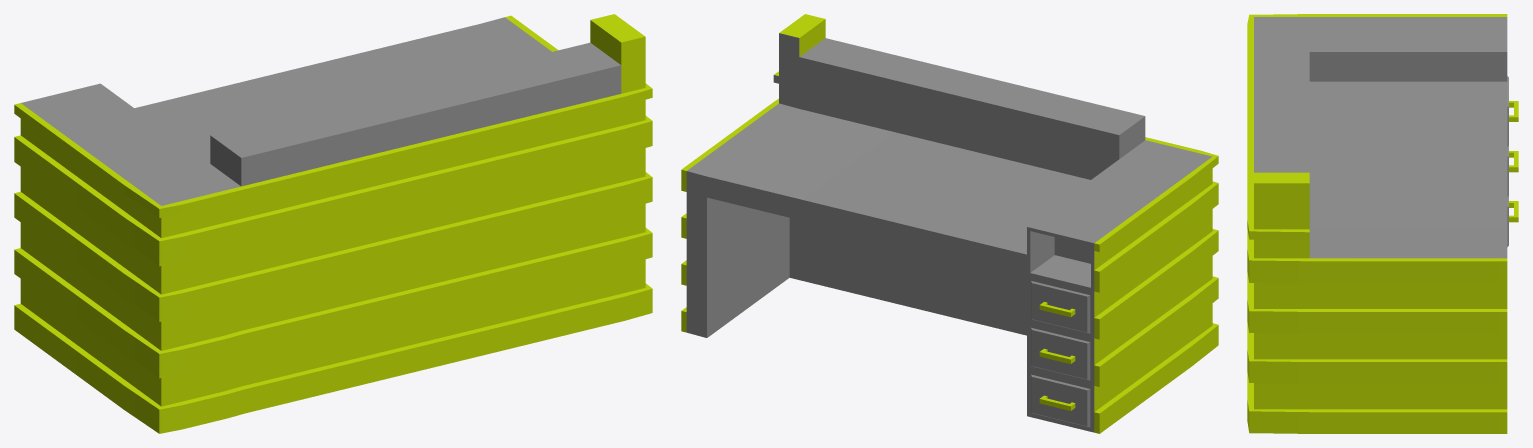
Rendered from Receptionist Desk.FBX.
3 views of the same model, side by side, from view 1: azimuth 30°, elevation 25°; view 2: azimuth 150°, elevation 25°; view 3: azimuth 270°, elevation 25° (orthographic). The views are drawn at different scales.
Visible parts, largest first — view 1: Receptionist Desk; view 2: Receptionist Desk; view 3: Receptionist Desk.
Boxes of the visible parts, left/top/right/bottom form: Receptionist Desk: left=14, top=14, right=652, bottom=433; Receptionist Desk: left=681, top=14, right=1218, bottom=433; Receptionist Desk: left=1247, top=14, right=1518, bottom=433.
Size of the model in its own units: 65.06 by 34.54 by 34.2.
